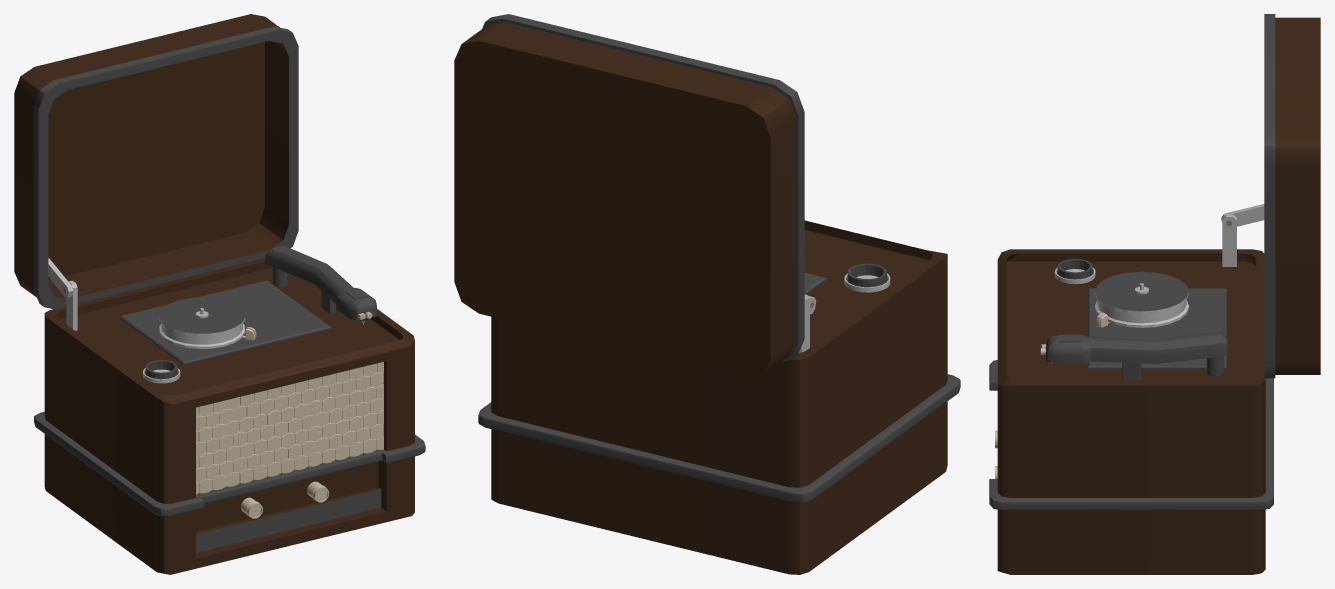
Rendered from record player.fbx.
3 views of the same model, side by side, from view 1: azimuth 30°, elevation 25°; view 2: azimuth 150°, elevation 25°; view 3: azimuth 270°, elevation 25° (orthographic). The views are drawn at different scales.
Parts seen in each view (by area): view 1: pCube116; view 2: pCube116; view 3: pCube116.
Part boxes in pixels (x1,y1,x2,y2): pCube116: (14, 14, 425, 574); pCube116: (454, 14, 960, 574); pCube116: (989, 14, 1320, 574).
Bounding box in the file's own units: 1.84 × 2.6 × 1.8.
